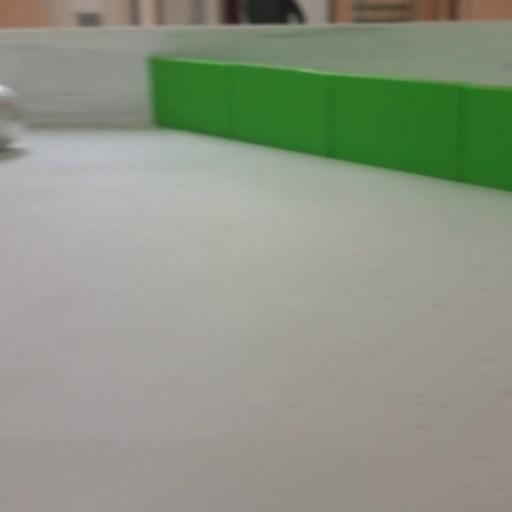alive: (0, 79, 26, 146)
